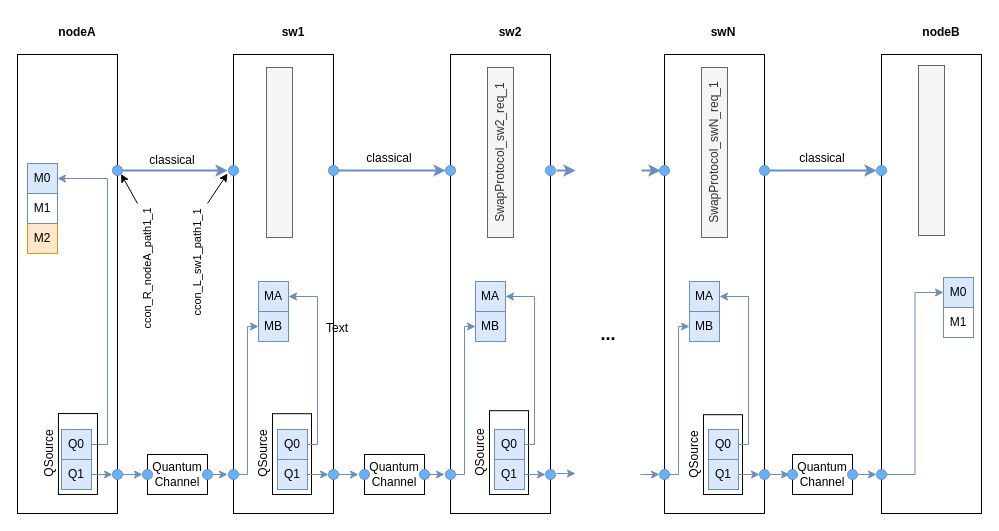
Some shapes in this 999 by 531 pixel diagram are drawn without their labels. The centre of each missing label's shape, as x and y in pixels:
CorrectProtocol_req_1: the point at 931,150
SwapProtocol_sw1_req_1: the point at 279,152
